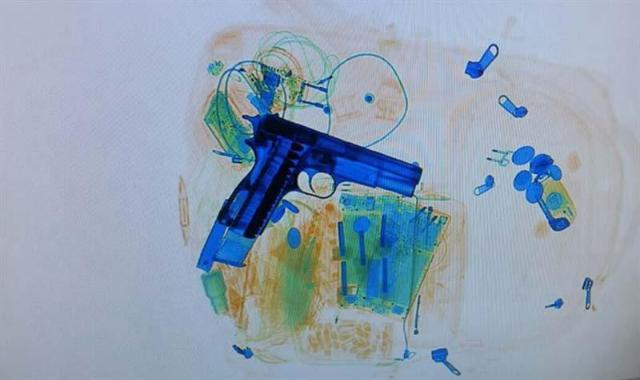Gun: (192, 109, 426, 273)
